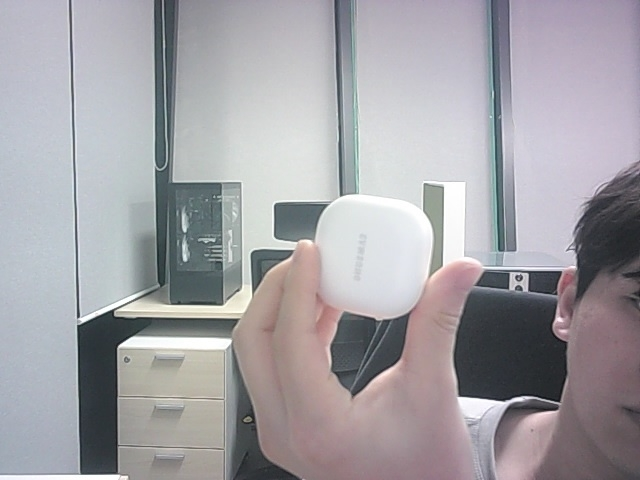case: (314, 195, 433, 319)
